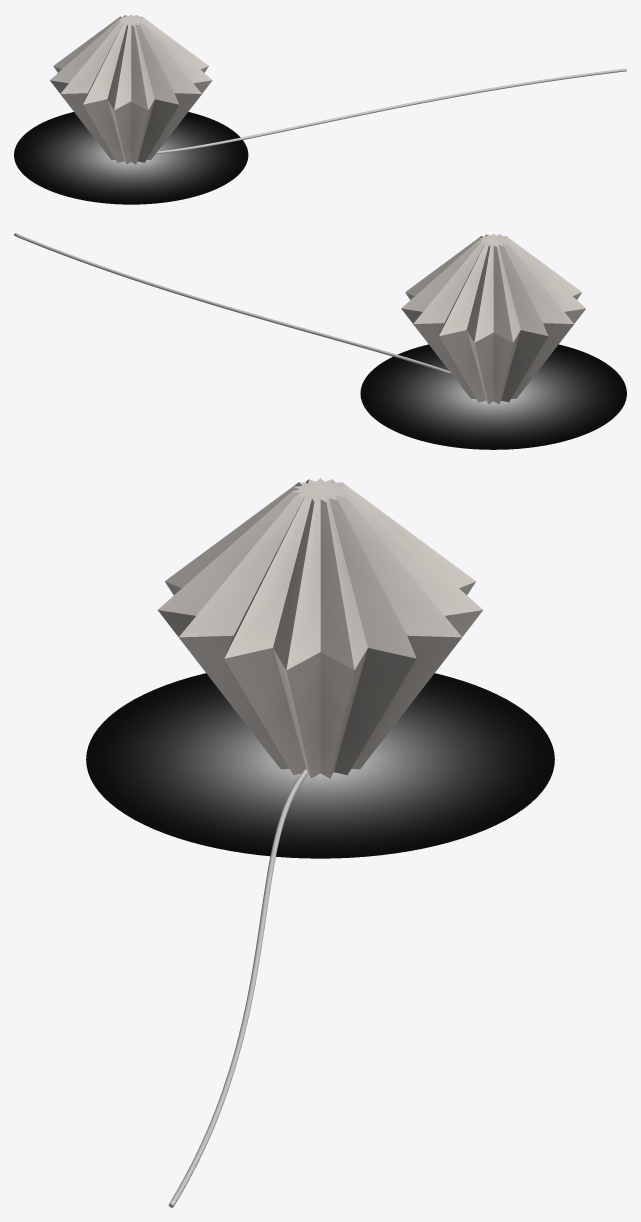
File: starlight1.glb
3 renders of one model, top to bottom at view 1: azimuth 30°, elevation 25°; view 2: azimuth 150°, elevation 25°; view 3: azimuth 270°, elevation 25°, orthographic. The views are drawn at different scales.
Parts seen in each view (by area): view 1: Starlight; view 2: Starlight; view 3: Starlight.
Part boxes in pixels (<box>): Starlight: <box>14,14,626,204</box>; Starlight: <box>14,233,626,449</box>; Starlight: <box>86,478,554,1207</box>.
Bounding box in the file's own units: 1.18 × 0.273 × 0.429.
Materials: 3 (1 with a texture image).
